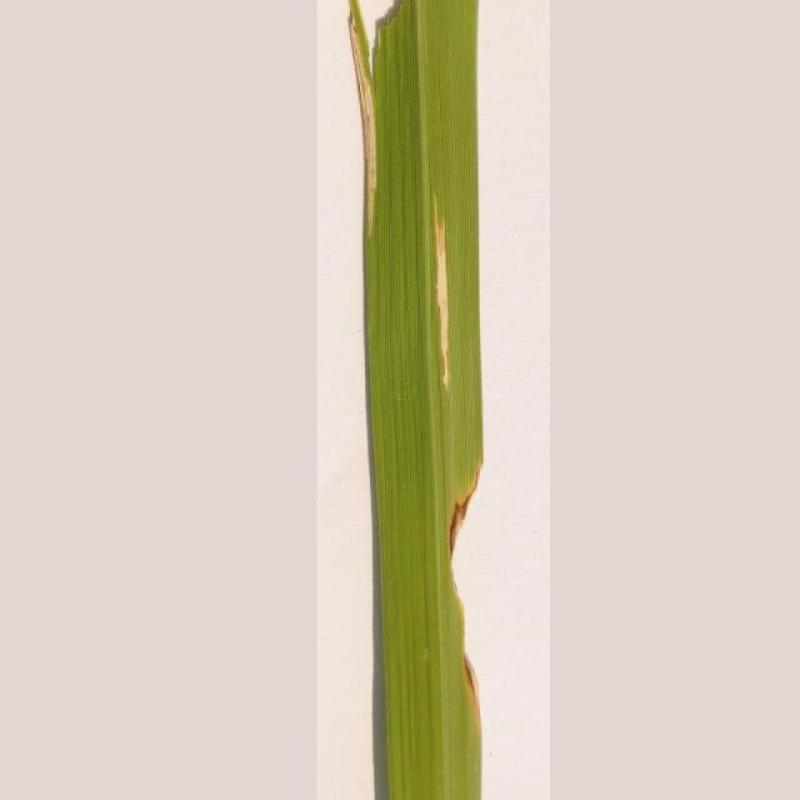Bacterial_Leaf_Blight: (409, 448, 509, 712), (329, 6, 411, 272), (419, 198, 470, 403)
